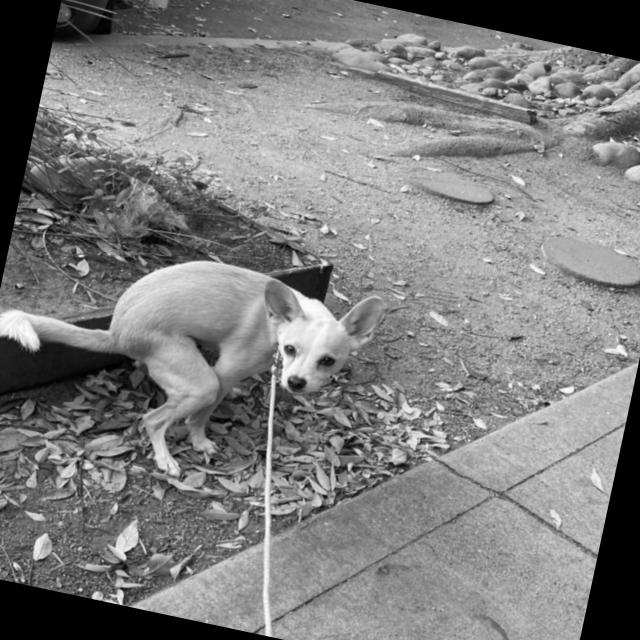squatting: (0, 213, 393, 514)
